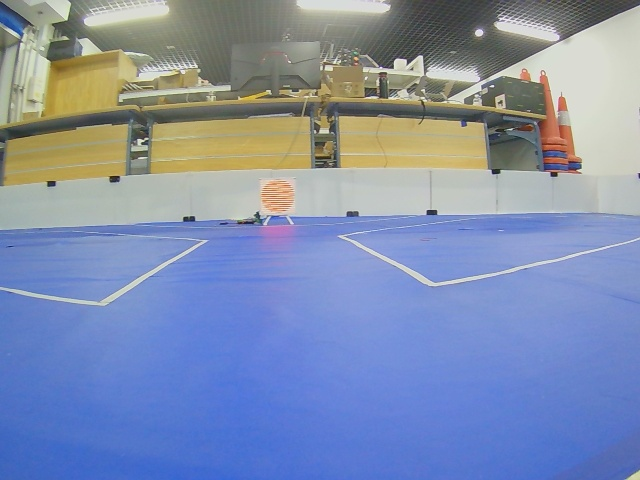red: (260, 178, 295, 216)
